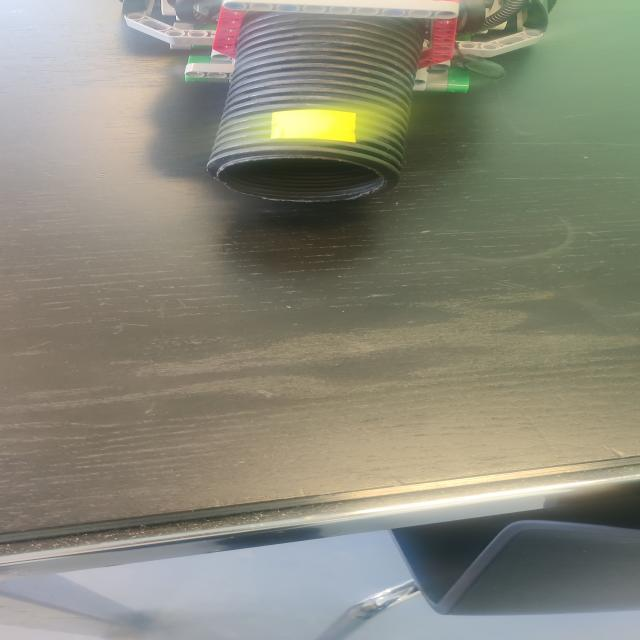robot-front: (215, 19, 416, 199)
